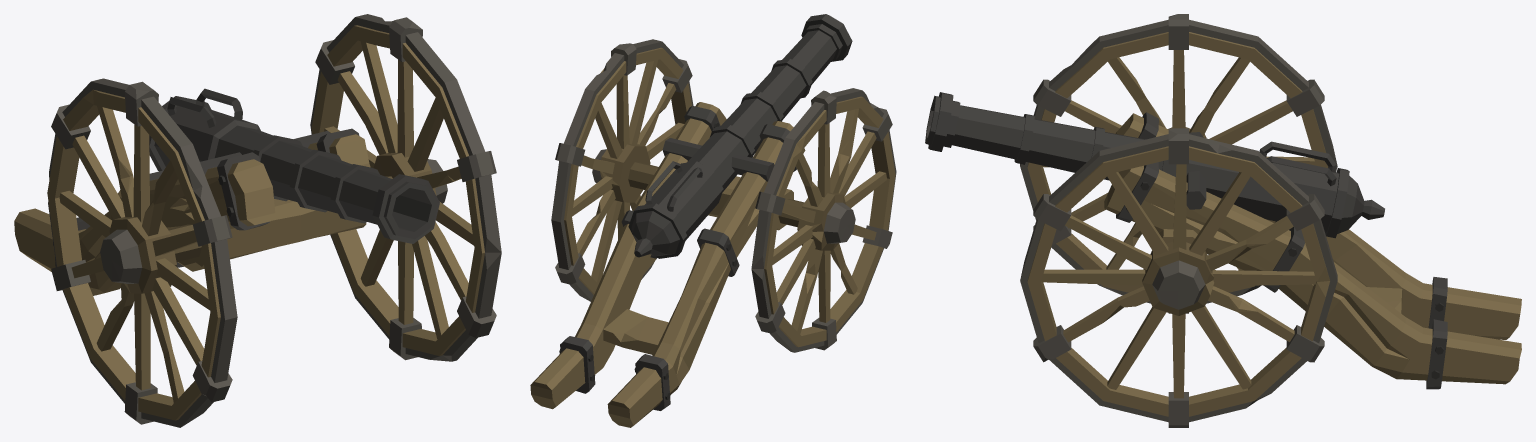
File: Cannon_2 .fbx
3 renders of one model, left to right at view 1: azimuth 30°, elevation 25°; view 2: azimuth 150°, elevation 25°; view 3: azimuth 270°, elevation 25°, orthographic. The views are drawn at different scales.
Visible parts, largest first — view 1: Cannon_2_Wheel, Cannon_2_Barrel, Cannon_2; view 2: Cannon_2_Wheel, Cannon_2, Cannon_2_Barrel; view 3: Cannon_2_Wheel, Cannon_2, Cannon_2_Barrel.
Part boxes in pixels (x1,y1,x2,y2): Cannon_2_Wheel: (47,14,501,427); Cannon_2_Barrel: (149,88,439,243); Cannon_2: (14,128,370,295); Cannon_2_Wheel: (551,39,896,352); Cannon_2: (530,102,805,427); Cannon_2_Barrel: (628,14,852,258); Cannon_2_Wheel: (1020,14,1337,427); Cannon_2: (1104,112,1521,389); Cannon_2_Barrel: (925,92,1384,238).
Size of the model in its own units: 141 by 138 by 253.
